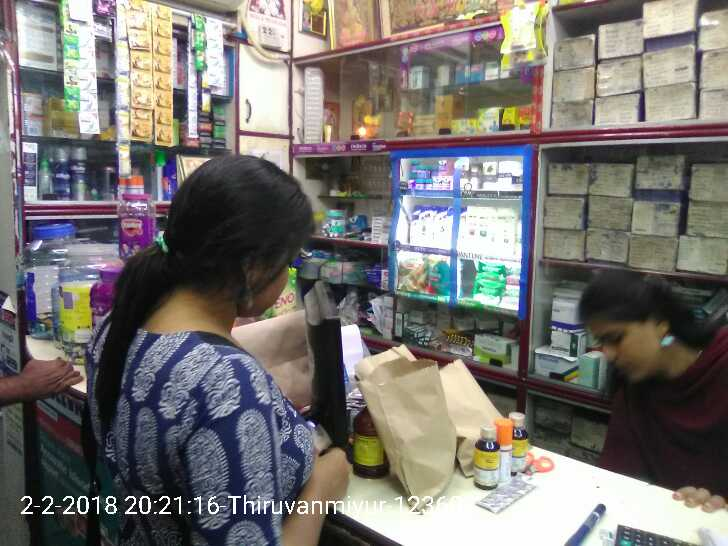vicks: (410, 160, 452, 193)
